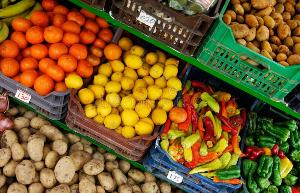bell_pepper: (168, 73, 244, 185), (246, 100, 299, 193)
lemon: (77, 46, 180, 132)
orange: (1, 8, 106, 92)
